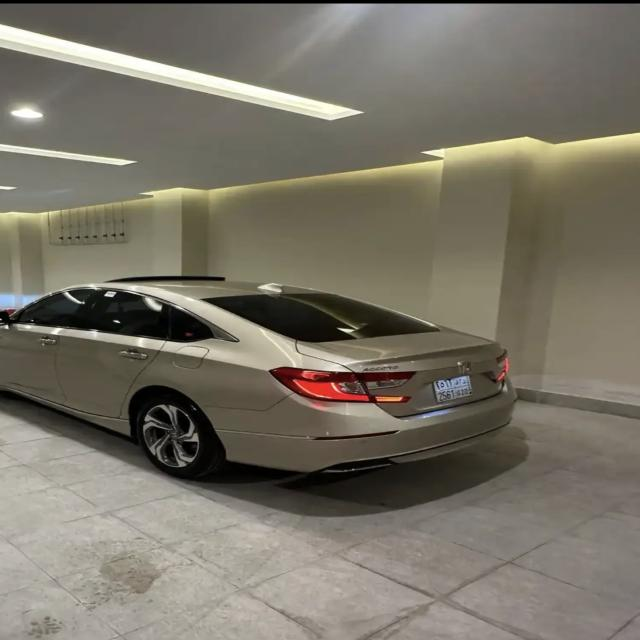license_plate: (433, 375, 474, 402)
